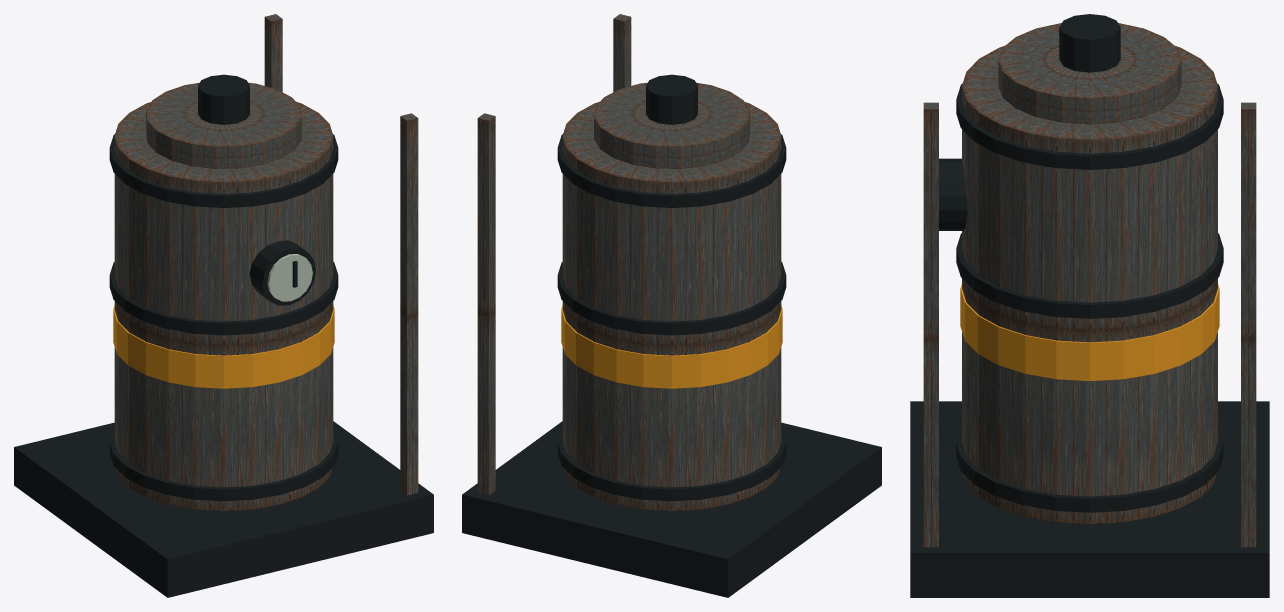
File: PressureTank.obj
The picture shows the model from 3 angles, left to right: view 1: azimuth 30°, elevation 25°; view 2: azimuth 150°, elevation 25°; view 3: azimuth 270°, elevation 25°; orthographic projection. The views are drawn at different scales.
Visible parts, largest first — view 1: PressureTank; view 2: PressureTank; view 3: PressureTank.
Boxes of the visible parts, x1,y1,x2,y2 form: PressureTank: [14, 14, 433, 597]; PressureTank: [462, 14, 881, 597]; PressureTank: [910, 14, 1269, 597].
Bounding box in the file's own units: 1.88 × 2.86 × 1.88.
5 materials, 2 textured.
